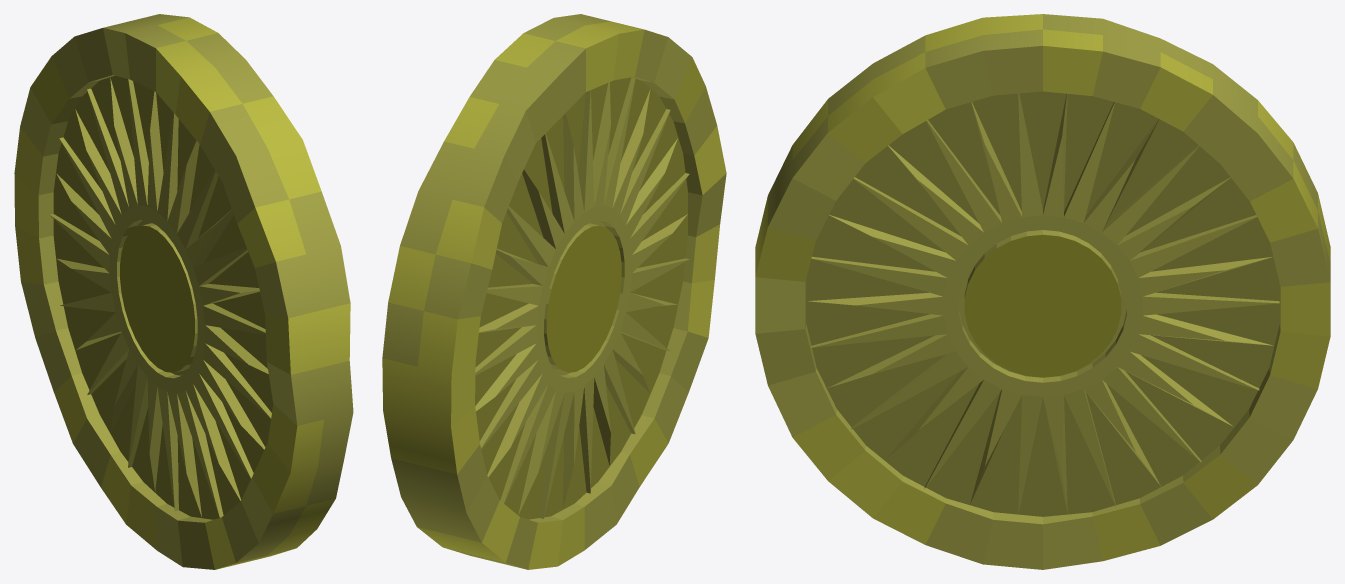
The model's file is Bounty rune pattern.fbx.
3 renders of one model, left to right at view 1: azimuth 30°, elevation 25°; view 2: azimuth 150°, elevation 25°; view 3: azimuth 270°, elevation 25°, orthographic. The views are drawn at different scales.
Parts seen in each view (by area): view 1: pCylinder1; view 2: pCylinder1; view 3: pCylinder1.
Boxes of the visible parts, box(x1,y1,x2,y2) form: pCylinder1: box(14, 14, 353, 569); pCylinder1: box(382, 14, 726, 569); pCylinder1: box(755, 14, 1330, 569).
Bounding box in the file's own units: 1.05 × 7.04 × 7.
